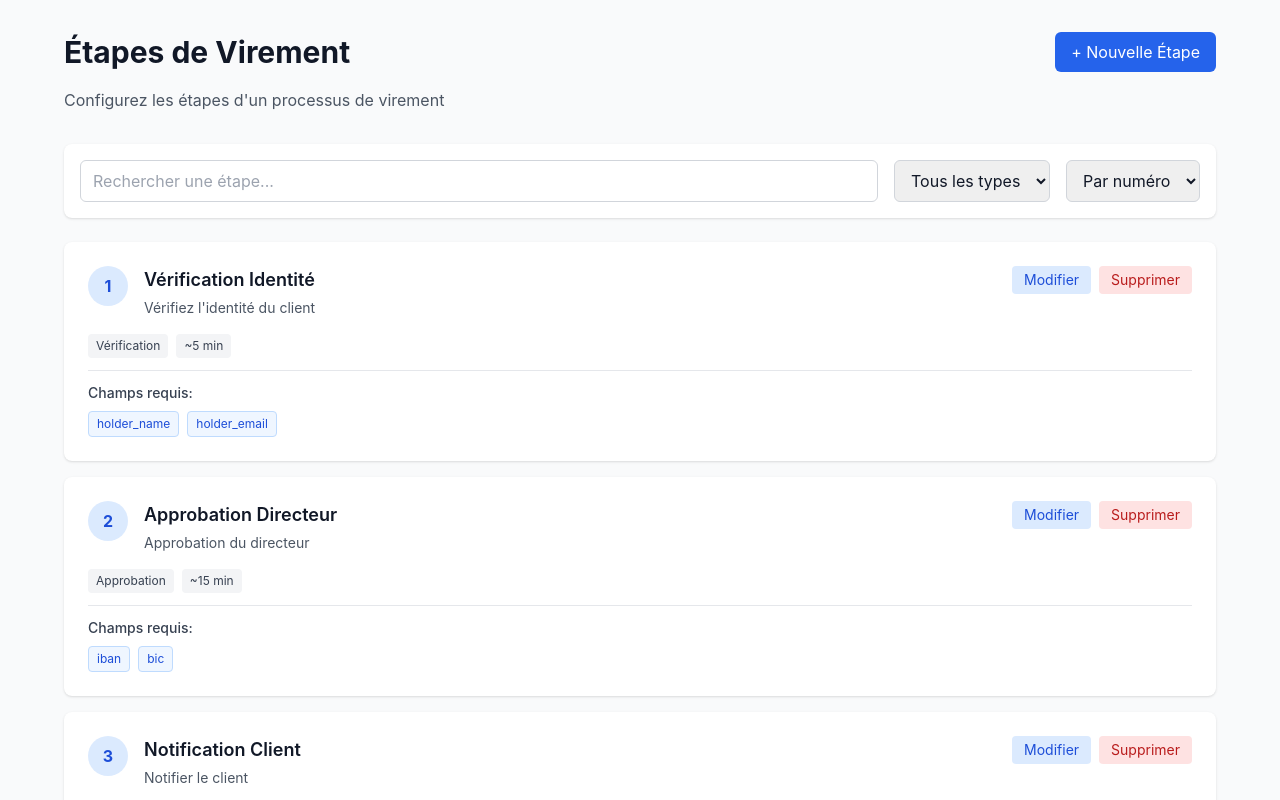
Scenario: TransferStepPage › Delete Confirmation › should hide confirmation when cancel clicked
Click the button "Supprimer" in the row of "Vérification Identité".
click(1146, 280)  # box top-left (1099, 266), bottom-right (1192, 294)
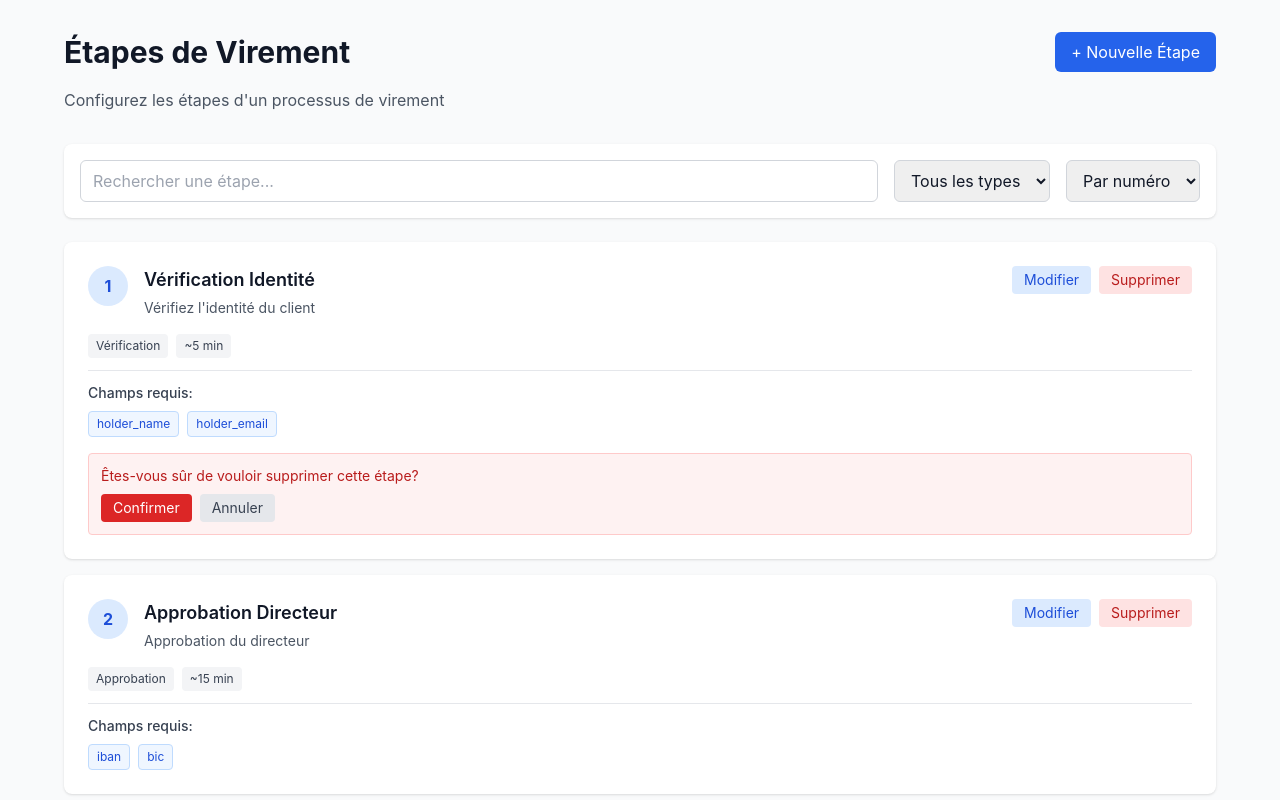
Expected: the text "Êtes-vous sûr de vouloir supprimer cette étape?" is shown, top-left (101, 467), bottom-right (419, 484)
Click the button "Annuler".
click(237, 508)  # box top-left (200, 494), bottom-right (275, 522)
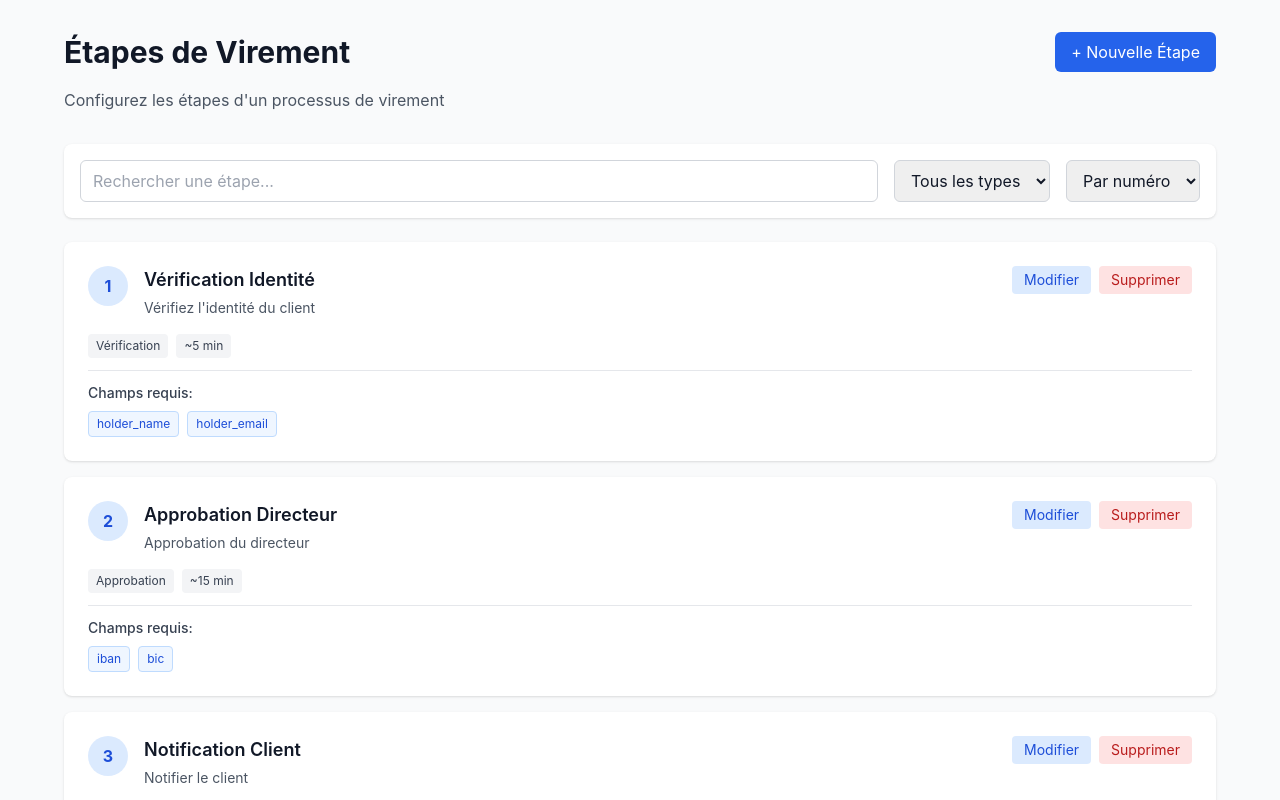
Expected: the text "Êtes-vous sûr" is gone
